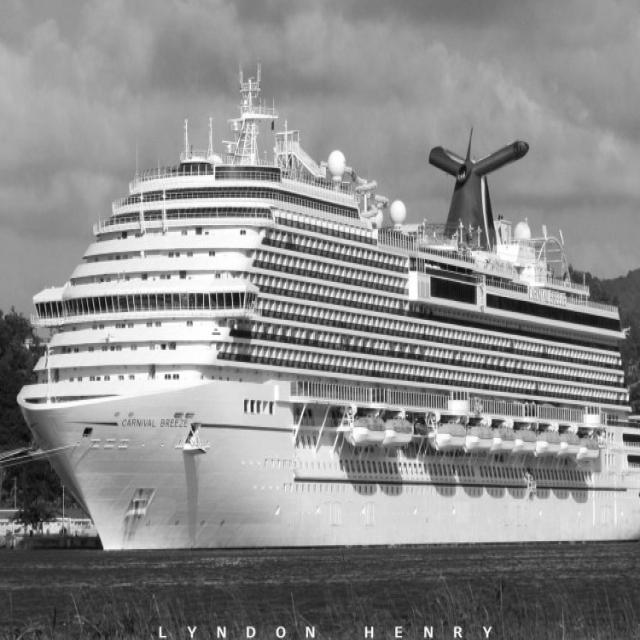cruises: (19, 61, 640, 556)
